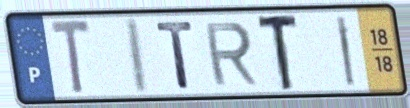I: (126, 14, 153, 98), (334, 14, 358, 89)
R: (201, 19, 260, 88)
T: (47, 17, 94, 99), (256, 11, 302, 94), (154, 18, 197, 90)
